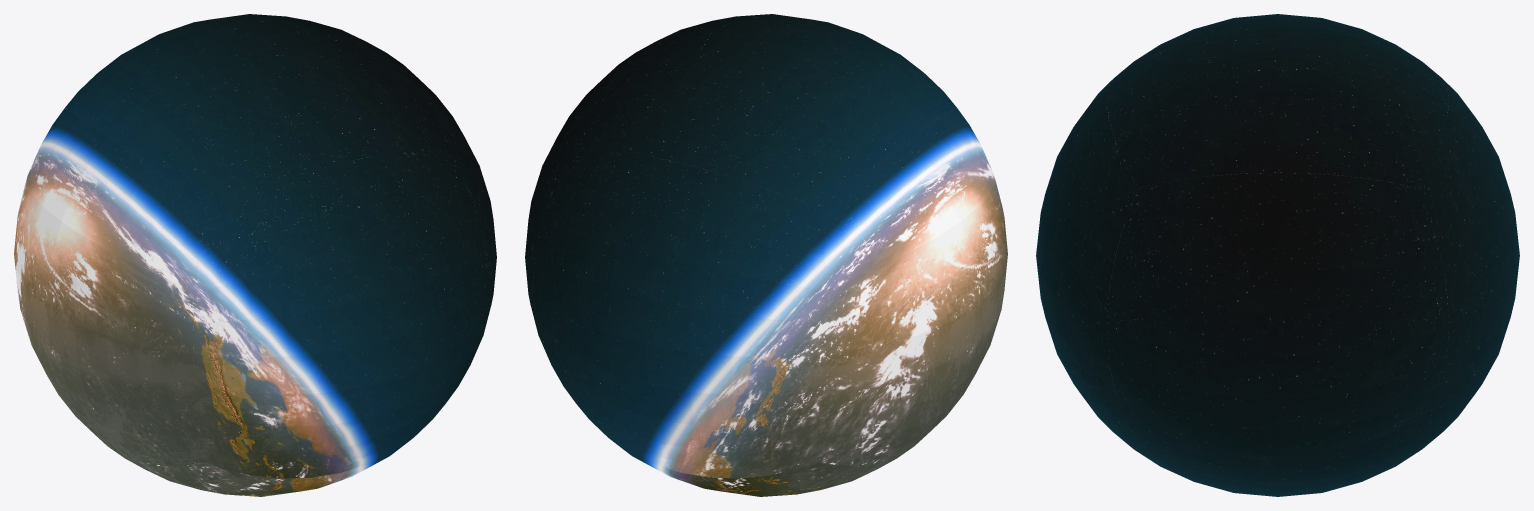
The model's file is Skybox-transformed.glb.
The picture shows the model from 3 angles, left to right: view 1: azimuth 30°, elevation 25°; view 2: azimuth 150°, elevation 25°; view 3: azimuth 270°, elevation 25°; orthographic projection.
Parts seen in each view (by area): view 1: Skybox; view 2: Skybox; view 3: Skybox.
Part boxes in pixels (x1=…): Skybox: x1=14, y1=14, x2=496, y2=496; Skybox: x1=525, y1=14, x2=1007, y2=496; Skybox: x1=1036, y1=14, x2=1519, y2=496.
Bounding box in the file's own units: 15.19 × 15.19 × 15.19.
Materials: 6 (6 with a texture image).
